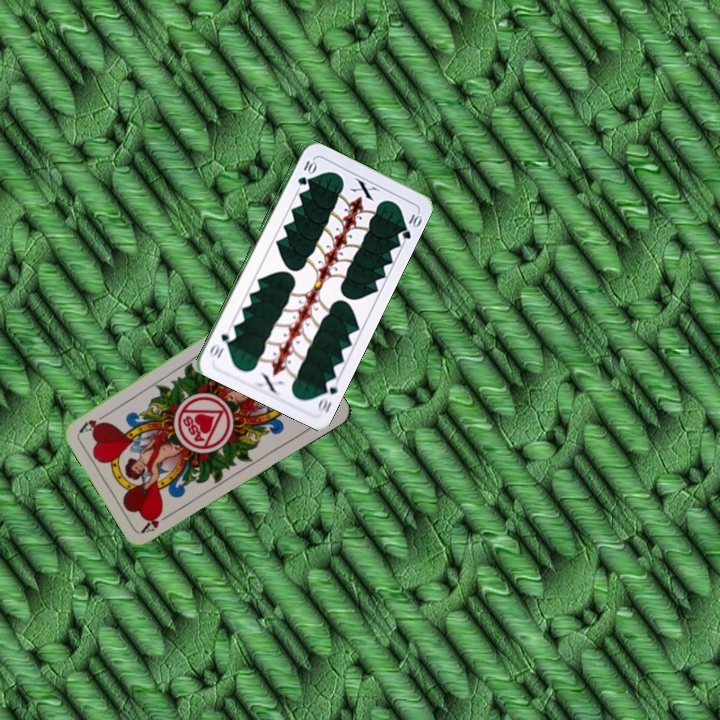G10: (313, 375, 341, 415), (293, 156, 317, 188)
HA: (138, 506, 175, 535)
